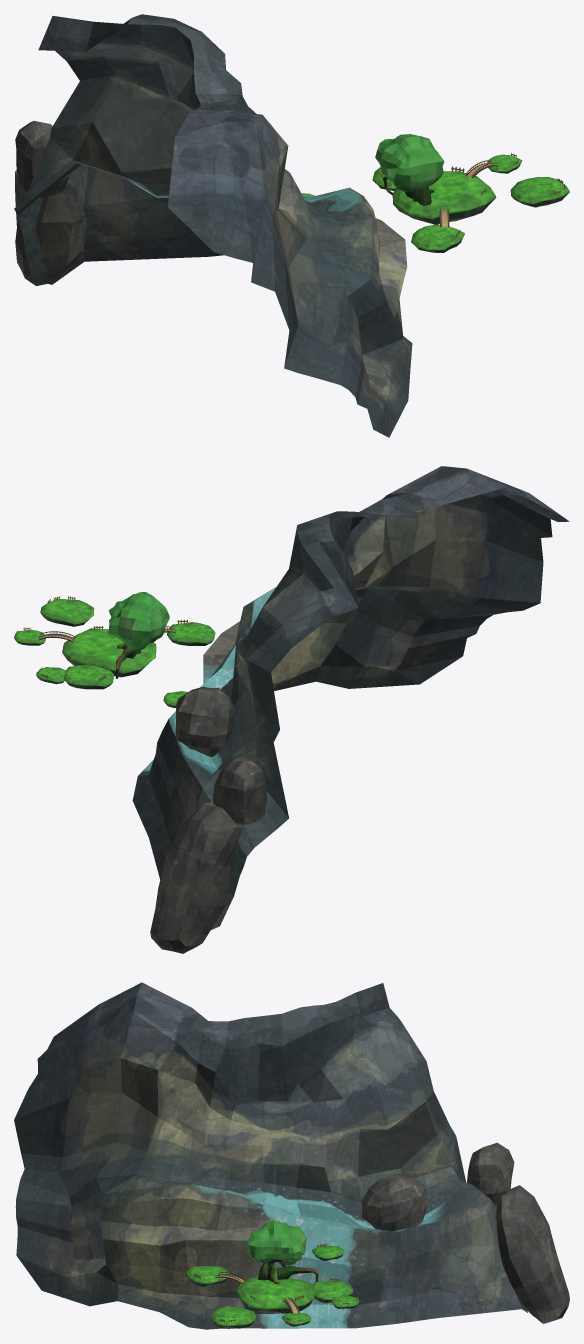
File: crash_level.fbx
The picture shows the model from 3 angles, top to bottom: view 1: azimuth 30°, elevation 25°; view 2: azimuth 150°, elevation 25°; view 3: azimuth 270°, elevation 25°; orthographic projection. The views are drawn at different scales.
Visible parts, largest first — view 1: pPlane1, pCube6, pCube3, pCube4, shard2, shard3; view 2: pPlane1, pCube6, pCube5, pCube4, pCube3, shard1, shard3; view 3: pPlane1, pCube6, pCube5, pCube4, pCube3, pCube1, shard5, shard1, shard2.
Boxes of the visible parts, <box> form: pPlane1: <box>14,14,412,437</box>; pCube6: <box>15,170,85,285</box>; pCube3: <box>375,134,444,192</box>; pCube4: <box>15,121,70,195</box>; shard2: <box>433,184,491,217</box>; shard3: <box>394,184,458,218</box>; pPlane1: <box>132,466,569,929</box>; pCube6: <box>150,801,241,953</box>; pCube5: <box>175,686,235,756</box>; pCube4: <box>213,756,266,824</box>; pCube3: <box>108,592,169,649</box>; shard1: <box>66,629,105,668</box>; shard3: <box>104,642,155,671</box>; pPlane1: <box>14,982,527,1329</box>; pCube6: <box>496,1185,569,1323</box>; pCube5: <box>361,1173,427,1231</box>; pCube4: <box>467,1142,514,1207</box>; pCube3: <box>247,1220,306,1264</box>; pCube1: <box>258,1259,318,1283</box>; shard5: <box>245,1297,308,1313</box>; shard1: <box>250,1282,315,1308</box>; shard2: <box>236,1280,287,1309</box>.
Bounding box in the file's own units: 49.04 × 35.92 × 59.38.
7 materials, 6 textured.
